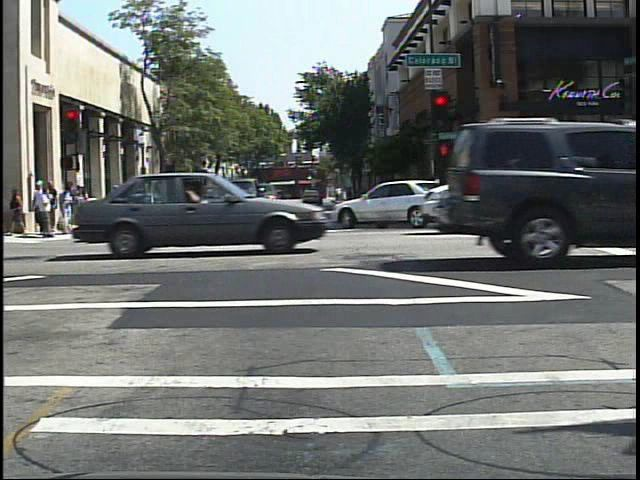person: (106, 179, 126, 227)
